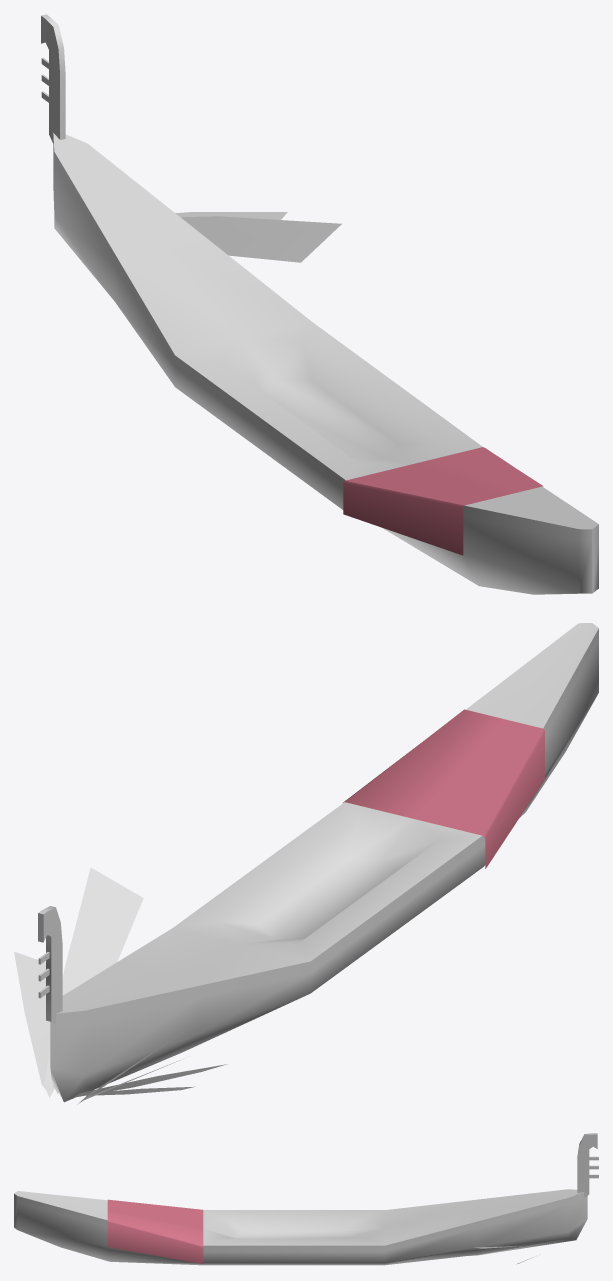
File: stk_gondola.glb
The picture shows the model from 3 angles, top to bottom: view 1: azimuth 30°, elevation 25°; view 2: azimuth 150°, elevation 25°; view 3: azimuth 270°, elevation 25°; orthographic projection. The views are drawn at different scales.
Visible parts, largest first — view 1: gondola; view 2: gondola; view 3: gondola.
Boxes of the visible parts, x1,y1,x2,y2 form: gondola: [41, 14, 598, 594]; gondola: [14, 623, 598, 1104]; gondola: [14, 1133, 598, 1265].
Size of the model in its own units: 5.12 by 4.22 by 17.82.
